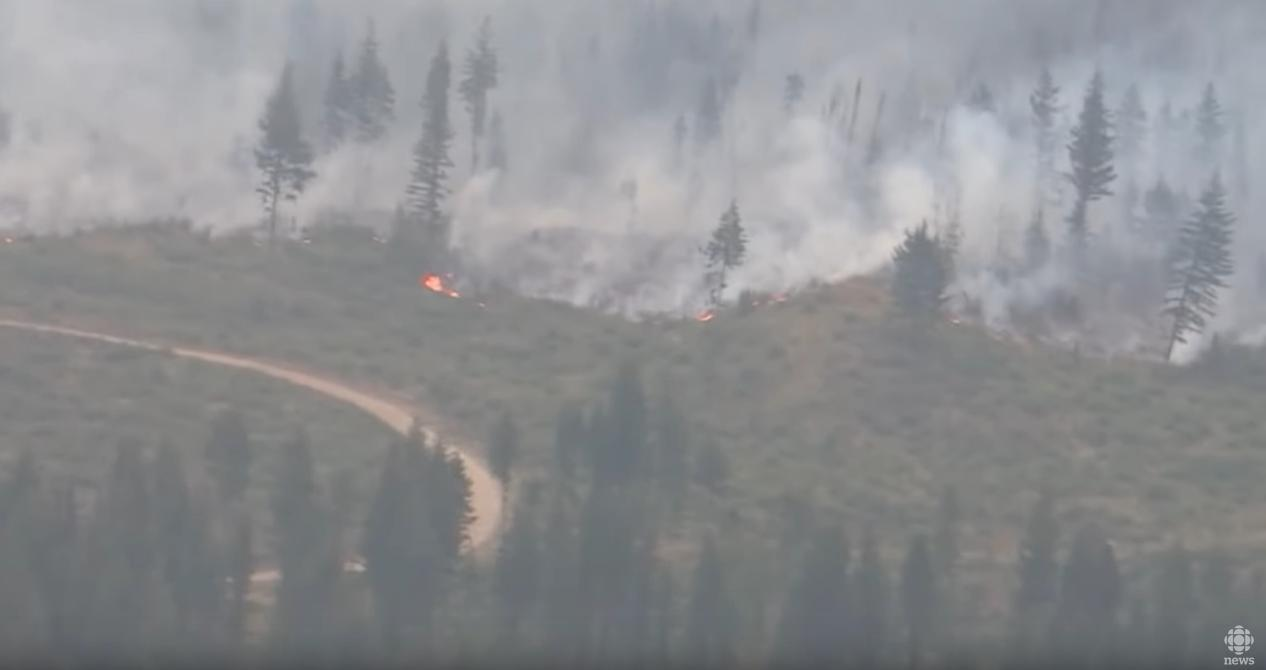fire: (418, 262, 453, 295)
smoke: (525, 117, 737, 258)
